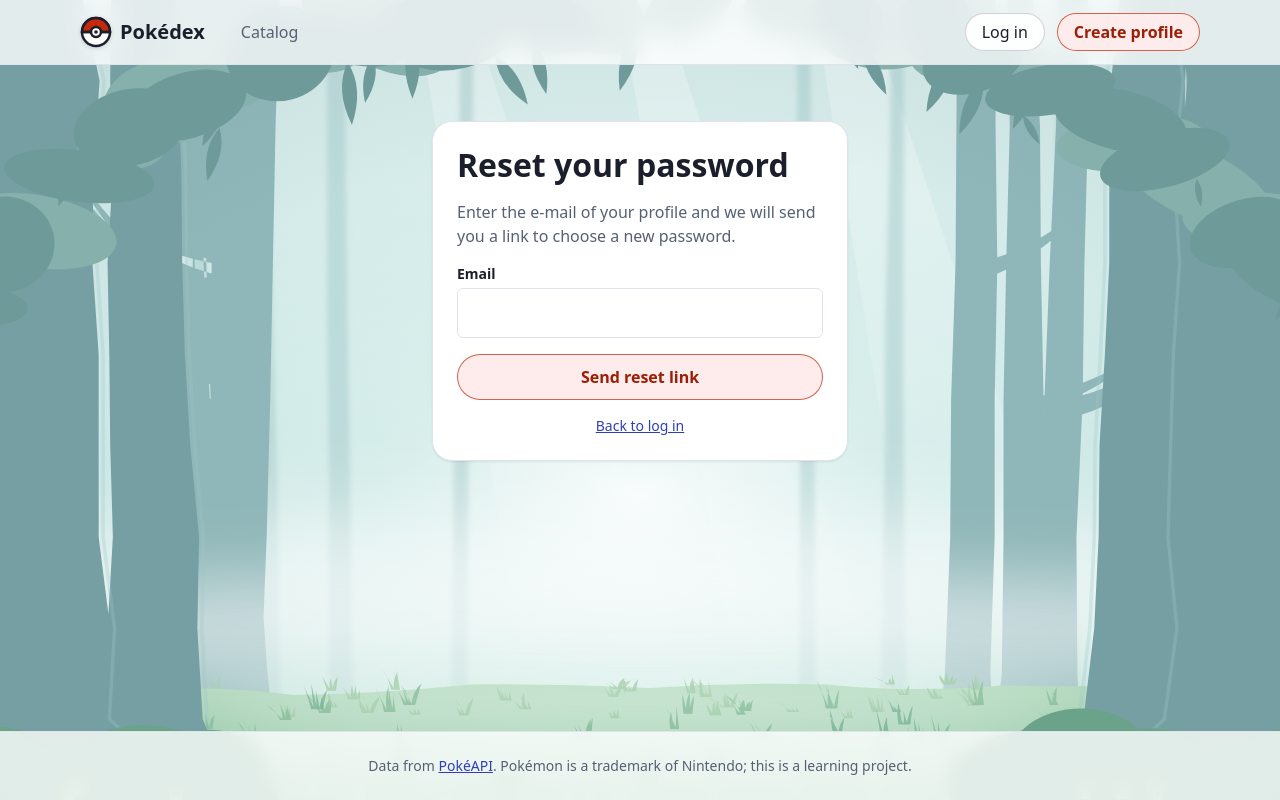
Test case: ForgotPasswordPage › sends the e-mail and shows the neutral confirmation
Type "ash@example.com" into the field labelled "Email". click: [640, 313]
box: [457,288,823,338]
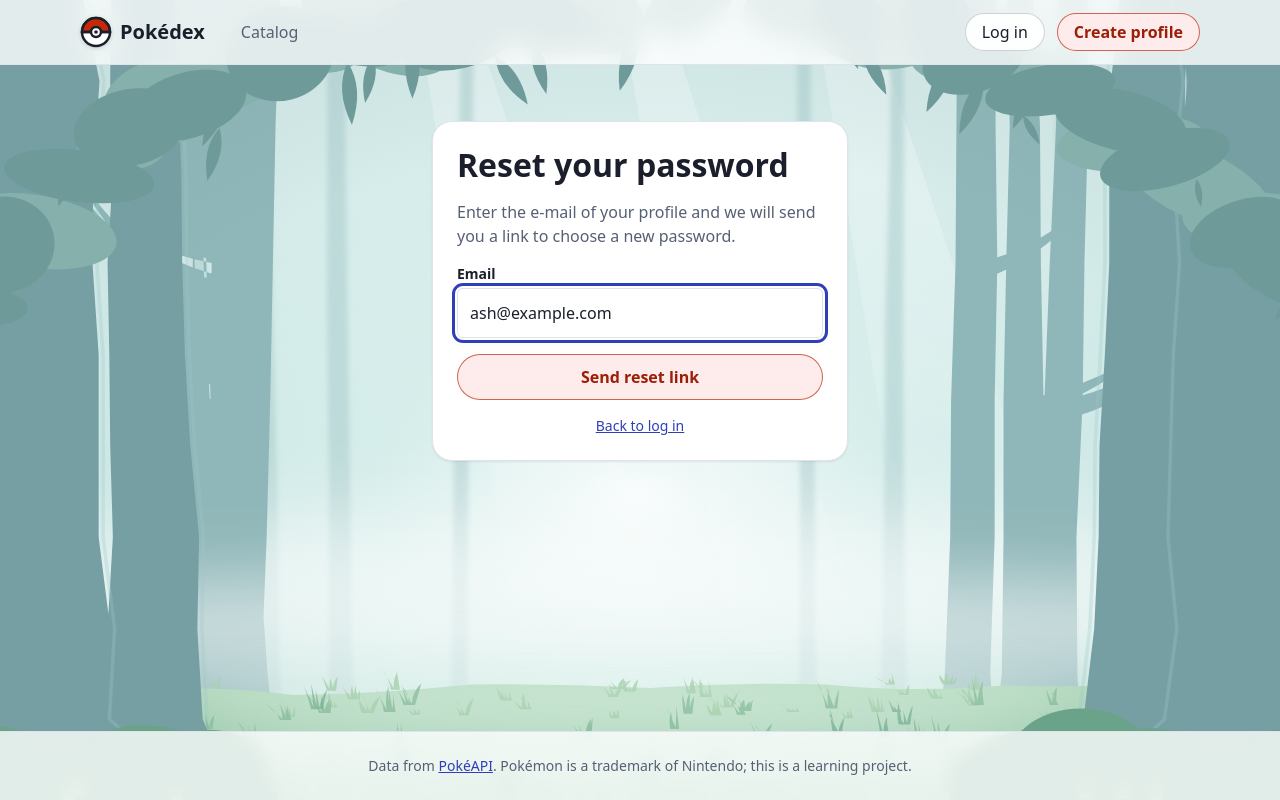
Click the button "Send reset link". click: [640, 377]
box: [457,354,823,400]
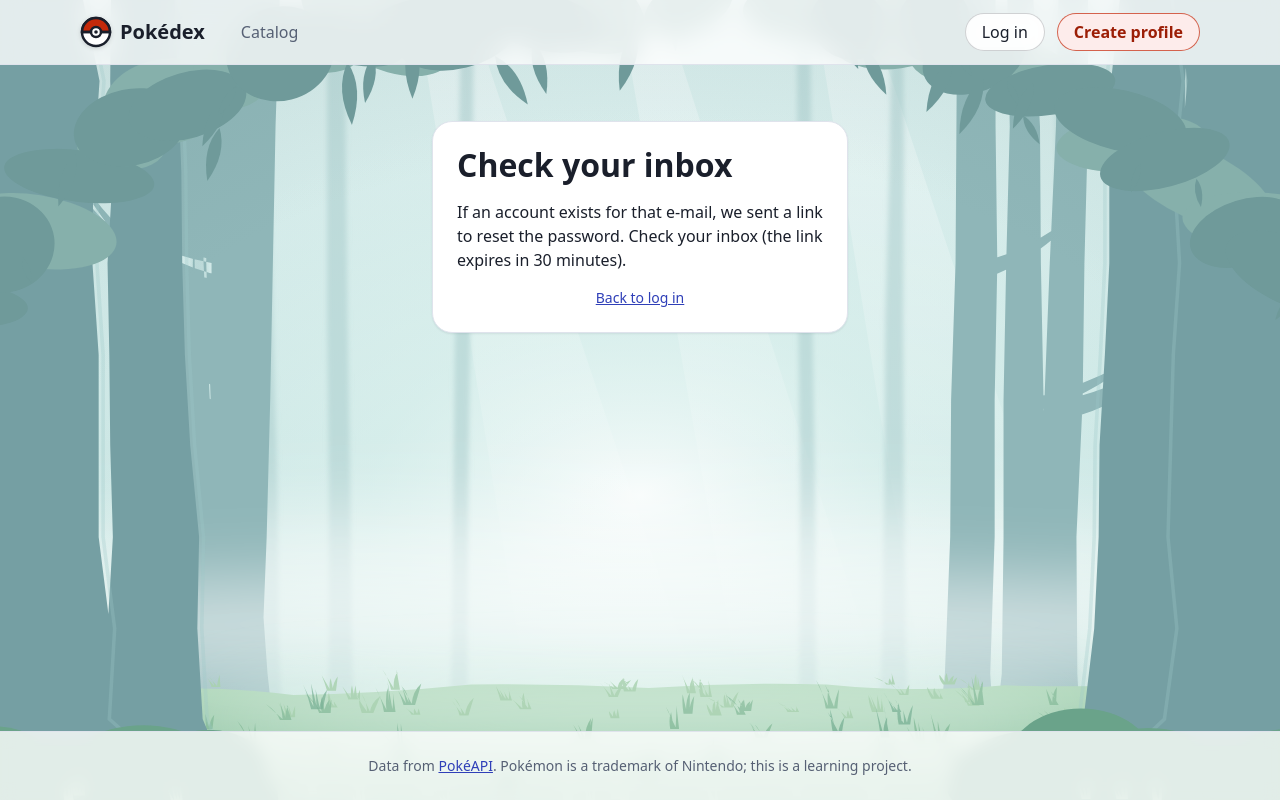
Expected: the message is not empty, [457,200,823,272]
Expected: the message shows "If an account exists for that e-mail, we sent a link to reset the password. Check your inbox (the link expires in 30 minutes).", [457,201,823,271]
Expected: the label labelled "Email" is gone
